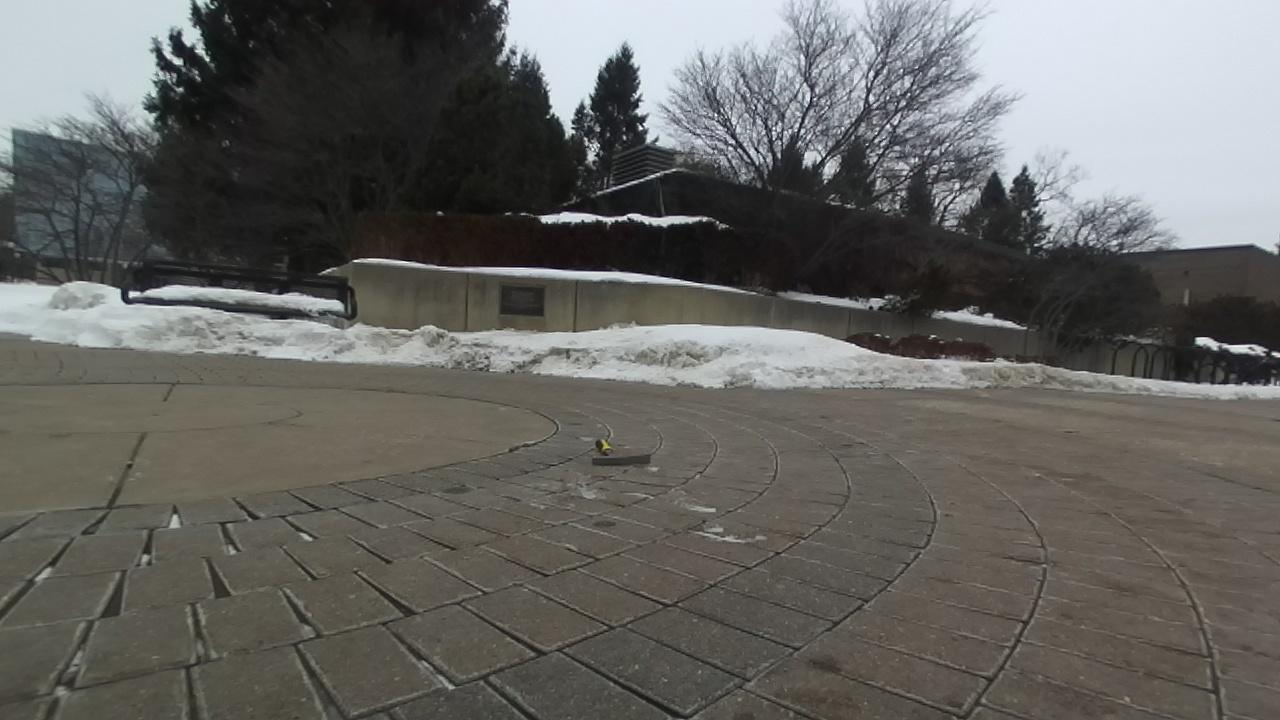pick: (592, 440, 650, 464)
